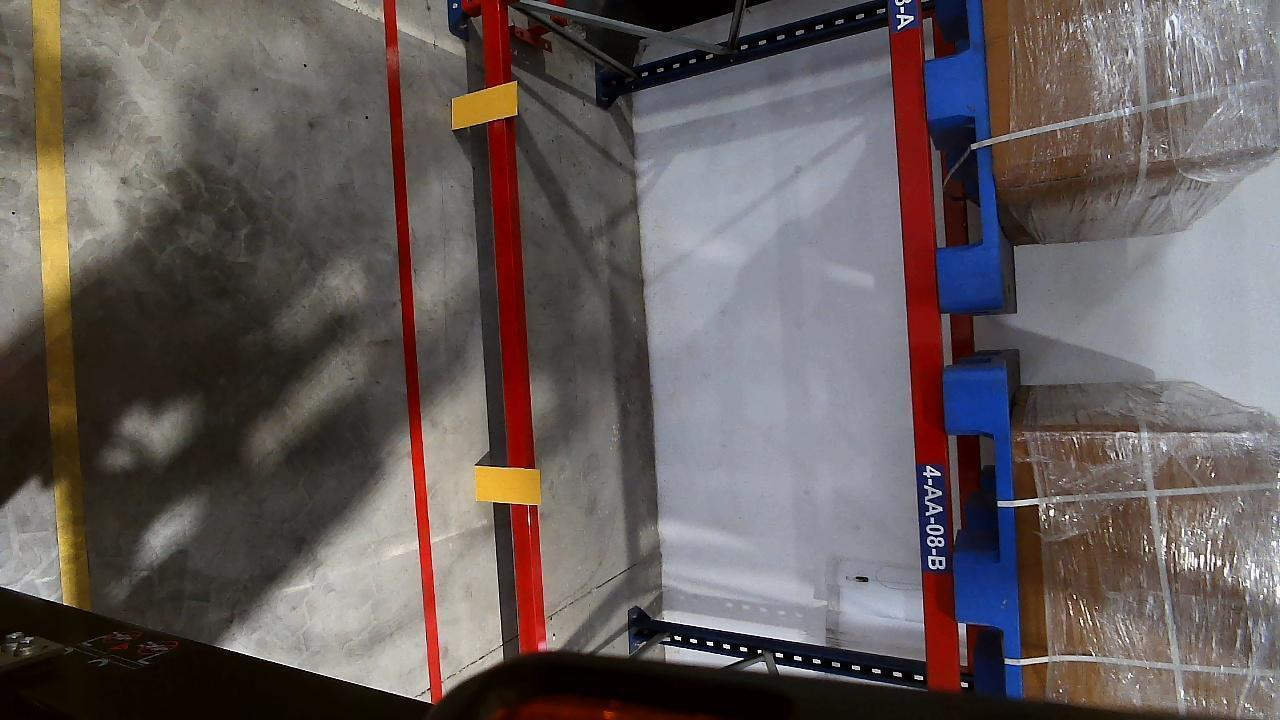red_line: (376, 0, 444, 695)
yellow_line: (14, 2, 92, 608)
